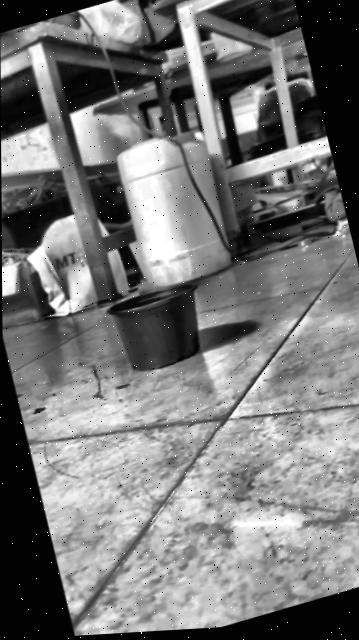pot: (105, 280, 211, 379)
